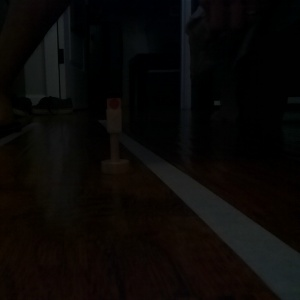traffic light red: (98, 93, 131, 177)
